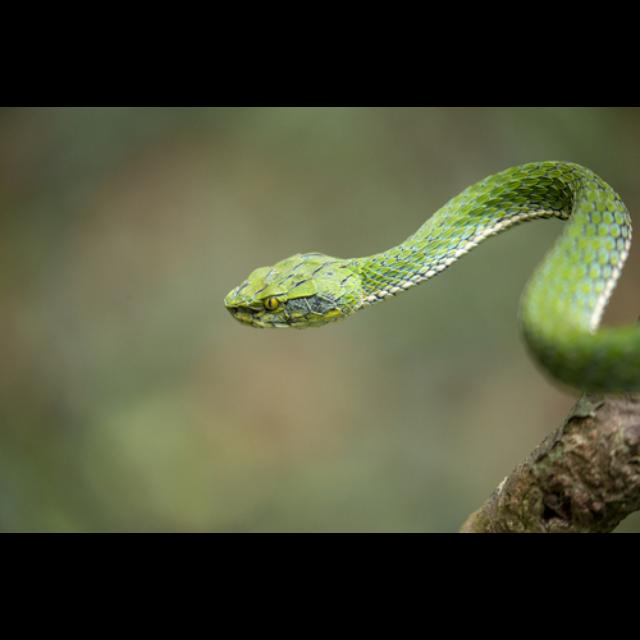snake: (225, 158, 640, 391)
